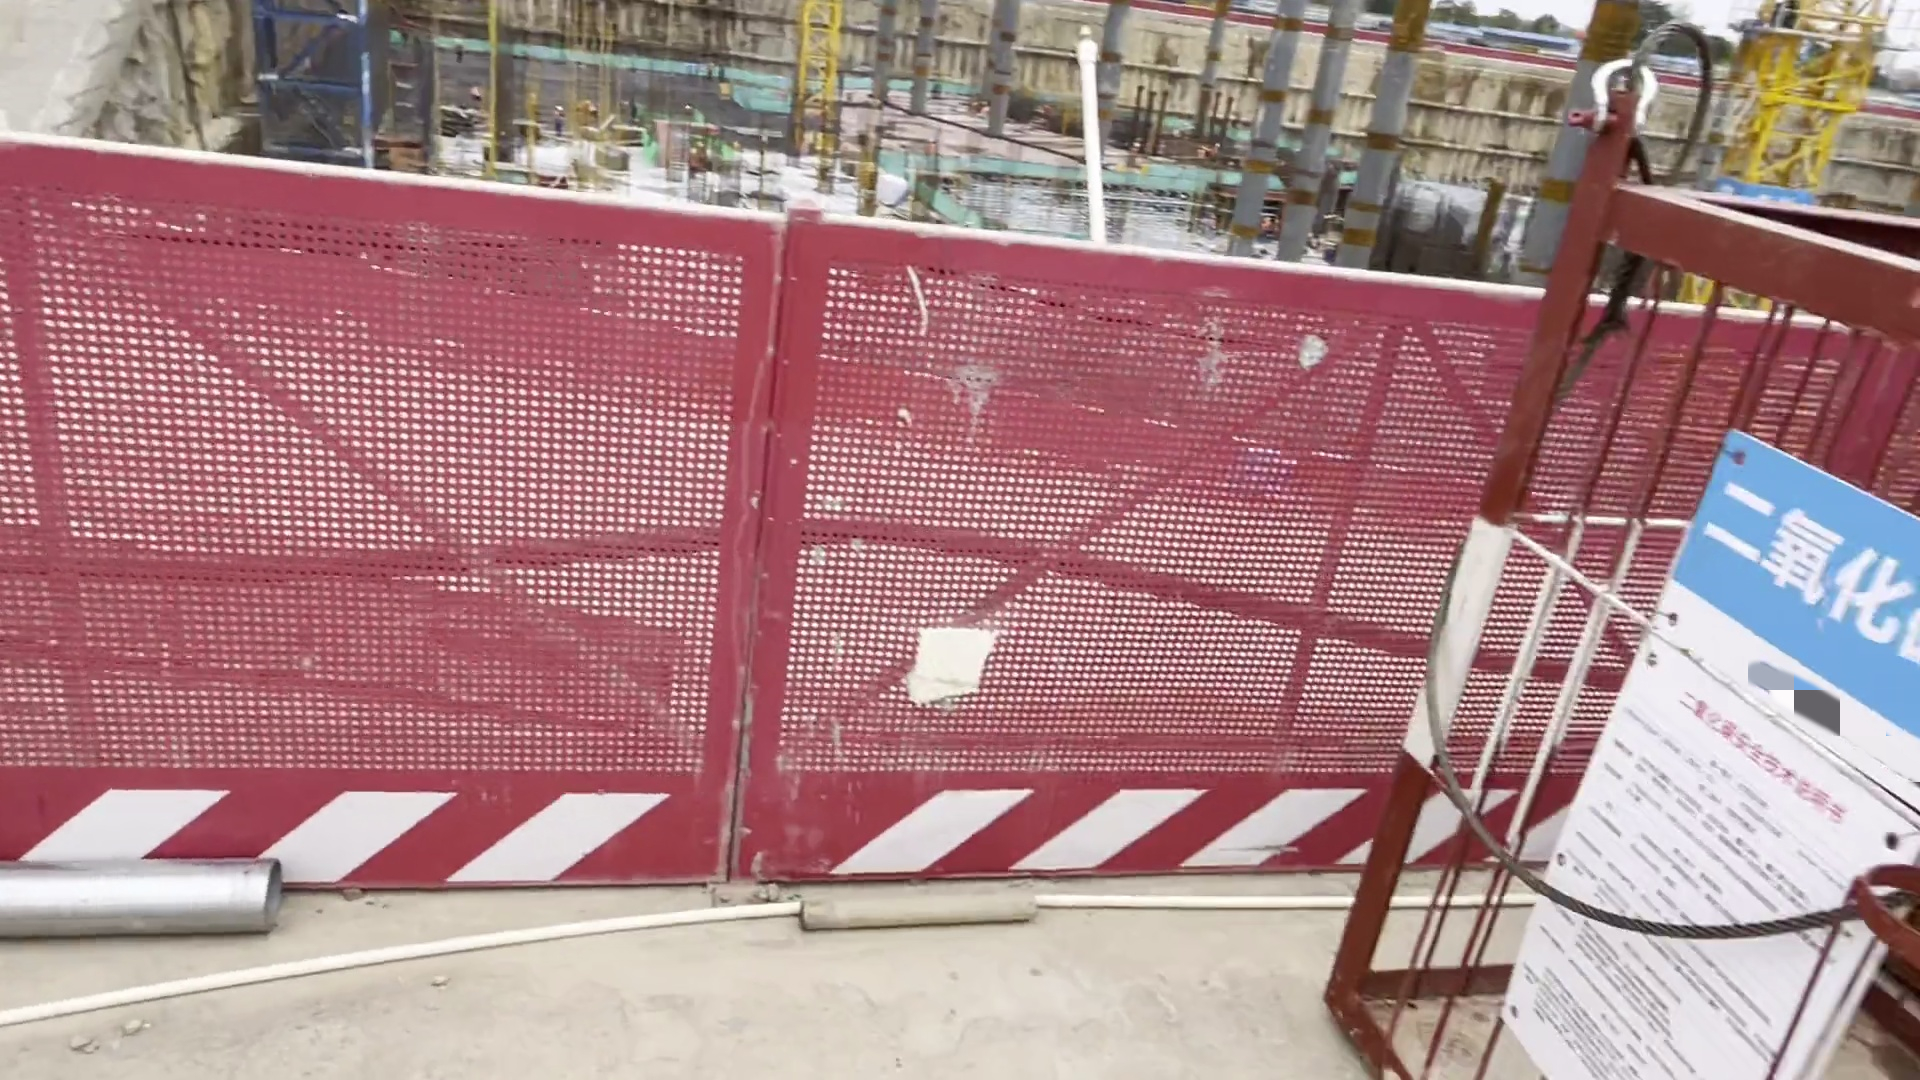fence: (771, 182, 1753, 874), (1, 138, 735, 885)
